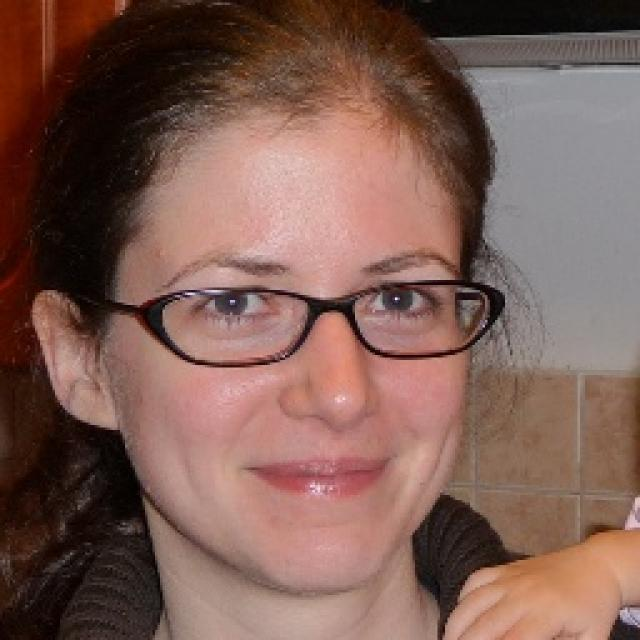earlobe: (64, 393, 122, 431)
eye: (200, 290, 274, 325), (366, 288, 438, 320)
nose: (281, 410, 381, 449)
wholeear: (31, 291, 121, 430)
